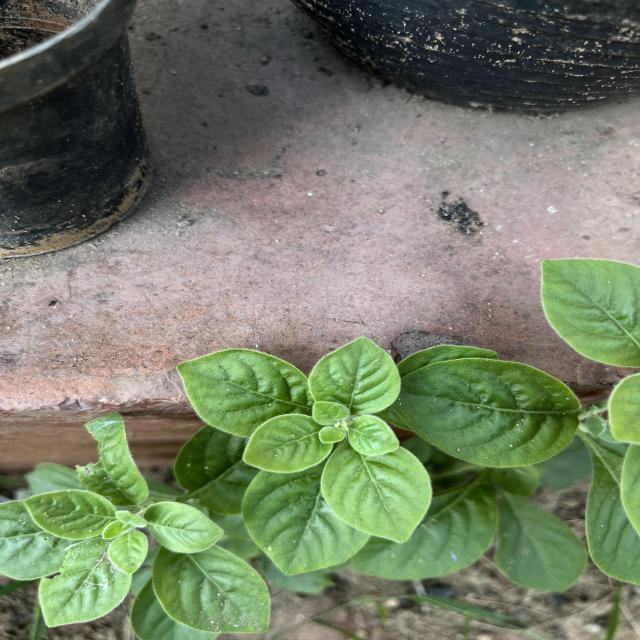Aerva lanata: (389, 352, 584, 472), (317, 437, 435, 548), (174, 346, 312, 439), (306, 334, 404, 420), (239, 412, 336, 474), (23, 487, 116, 542), (140, 498, 228, 554)
